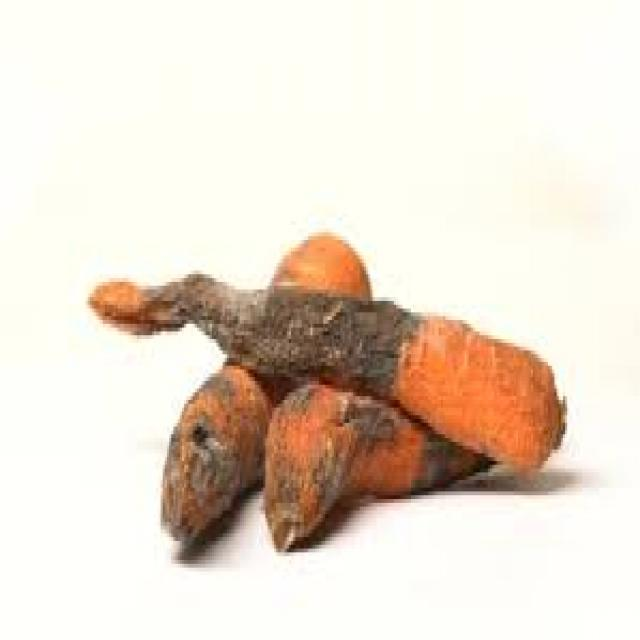organic waste: (84, 267, 565, 476), (158, 229, 372, 541), (259, 378, 492, 552)
